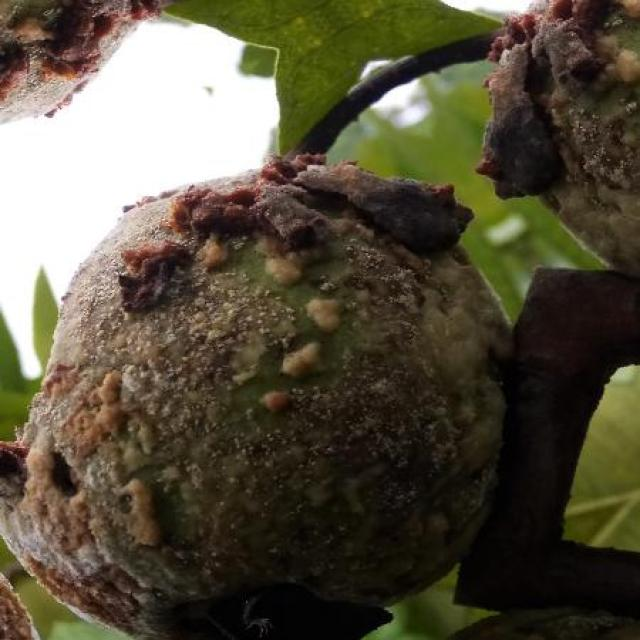Phytopthora: (0, 156, 510, 637), (484, 0, 640, 258)
